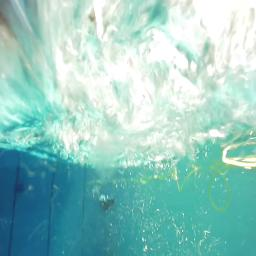Full: (99, 194, 115, 212)
